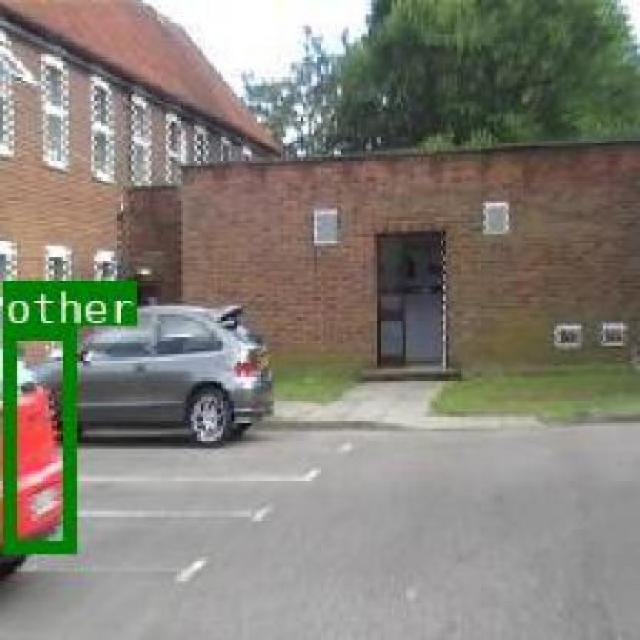other: (1, 324, 72, 550)
